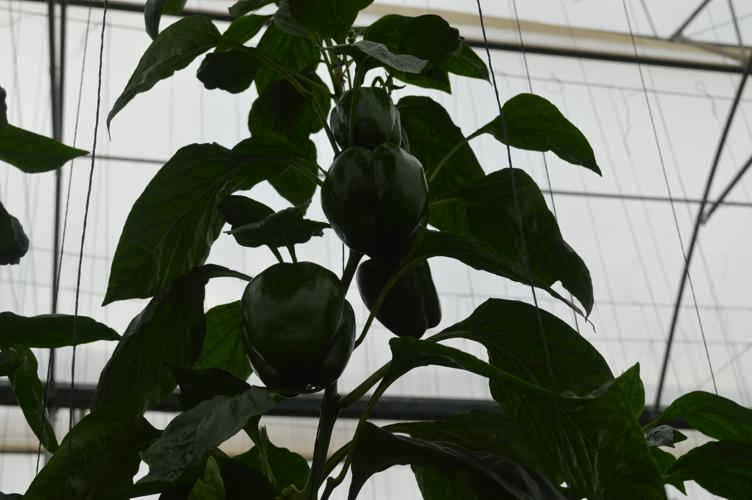BellPepper: (230, 254, 360, 406), (319, 145, 437, 263), (326, 83, 414, 149)
